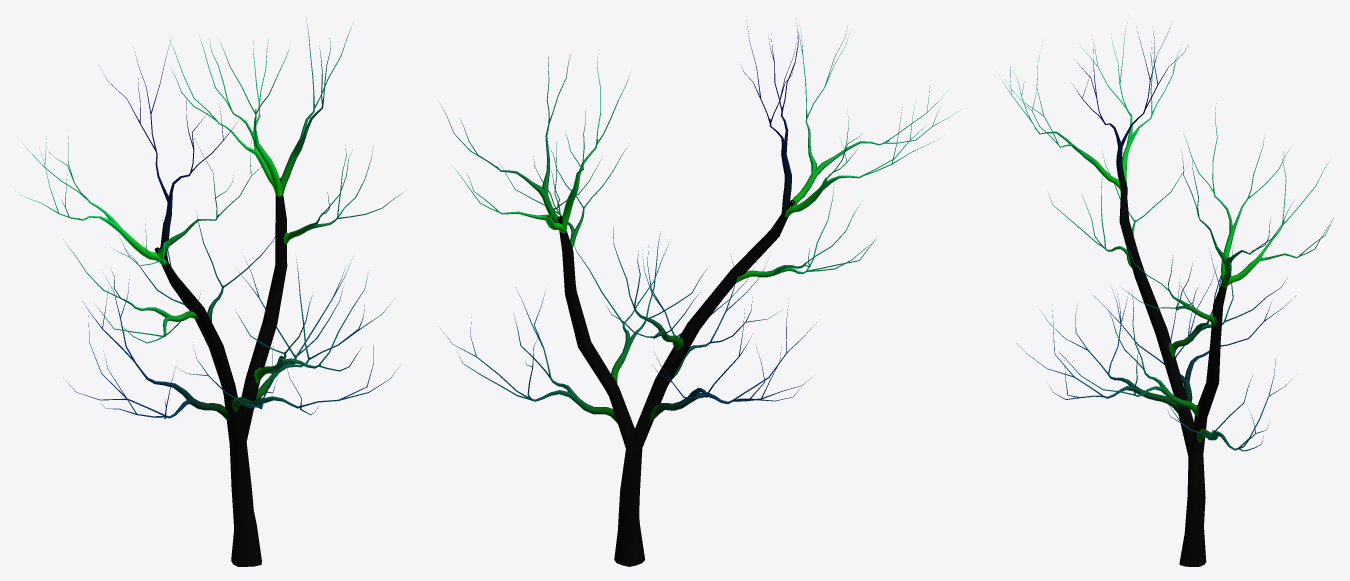
File: tree1.fbx
The picture shows the model from 3 angles, left to right: view 1: azimuth 30°, elevation 25°; view 2: azimuth 150°, elevation 25°; view 3: azimuth 270°, elevation 25°; orthographic projection. The views are drawn at different scales.
Visible parts, largest first — view 1: Tree; view 2: Tree; view 3: Tree.
Boxes of the visible parts, x1=… form: Tree: x1=15, y1=18, x2=401, y2=566; Tree: x1=438, y1=21, x2=958, y2=566; Tree: x1=999, y1=23, x2=1333, y2=566.
Bounding box in the file's own units: 14.87 × 11.54 × 18.64.
